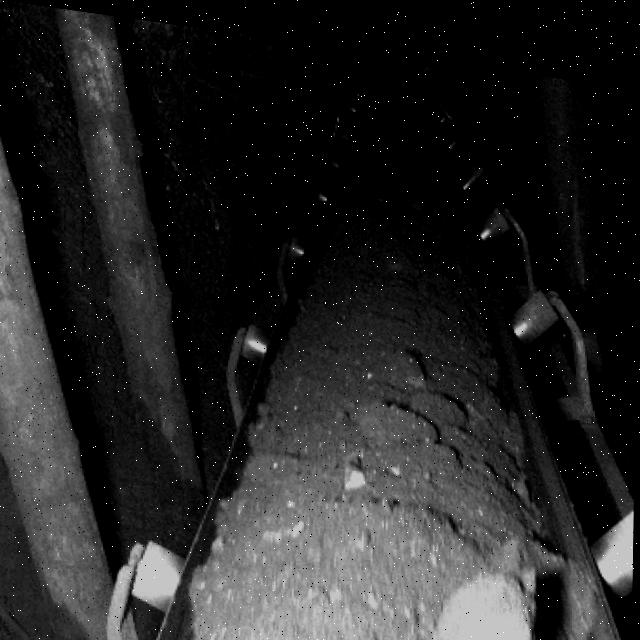large_sized_coal: (435, 538, 545, 640), (359, 388, 434, 439)
